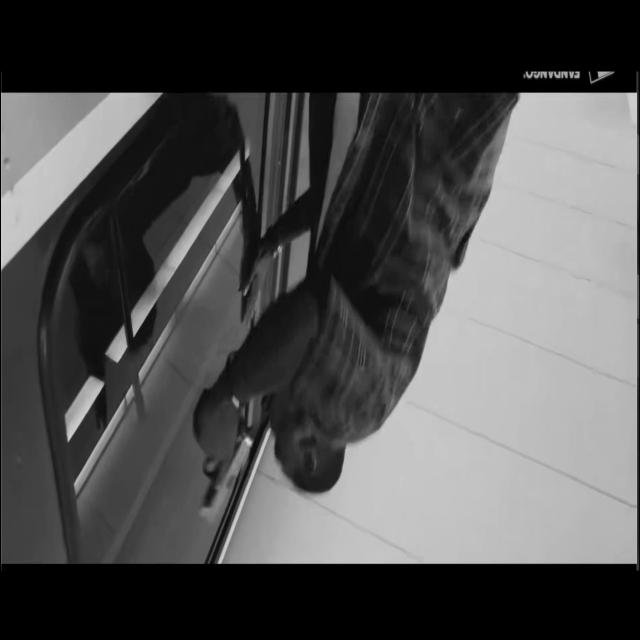weapons: (188, 386, 260, 534)
